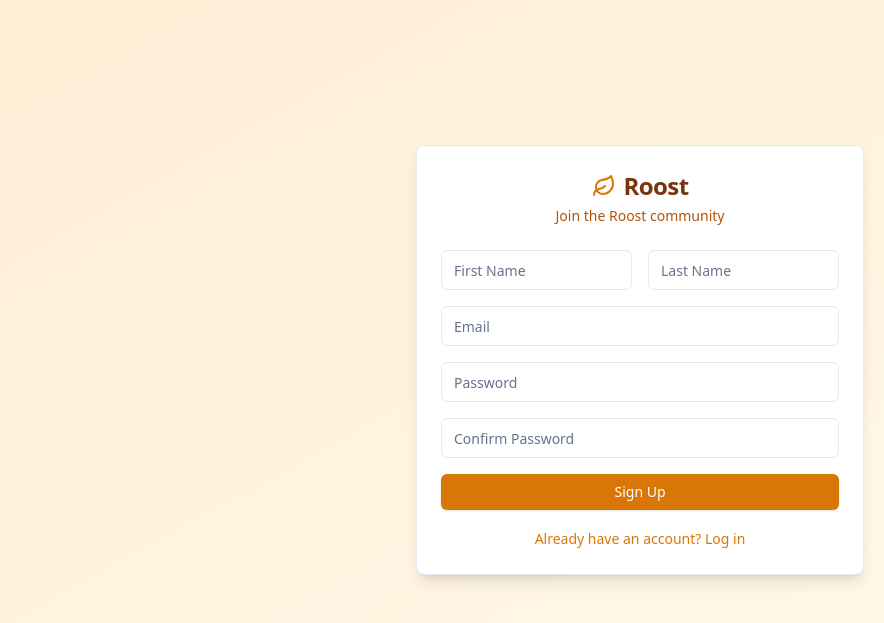
Test case: SignupPage › Form Validation › should show validation error for empty first name submission
This screenshot has width=884, height=623.
Type "Doe" into the field with placeholder "Last Name" at {"x": 744, "y": 270}, box [648,250,839,290]
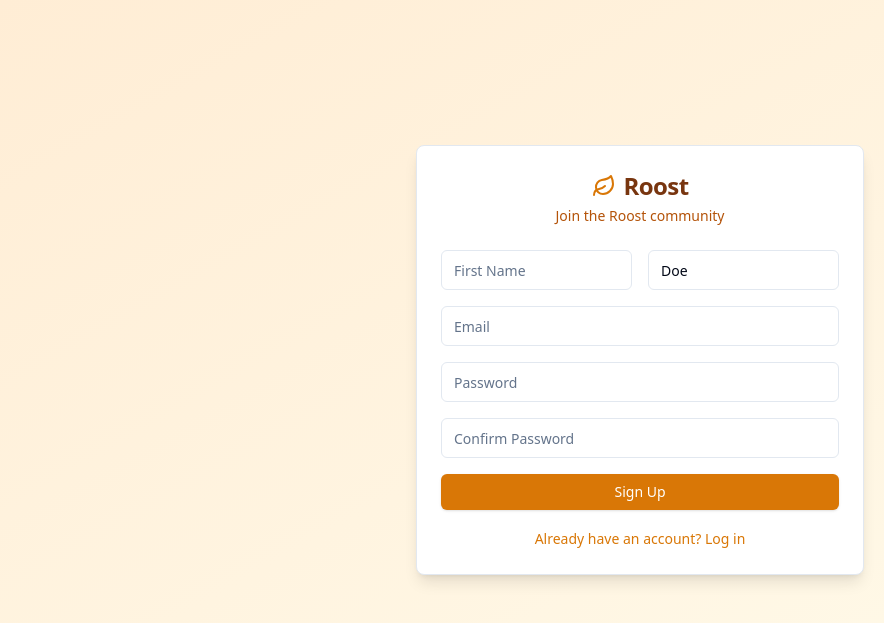
Type "john.doe@example.com" into the field with placeholder "Email" at {"x": 640, "y": 326}, box [441,306,839,346]
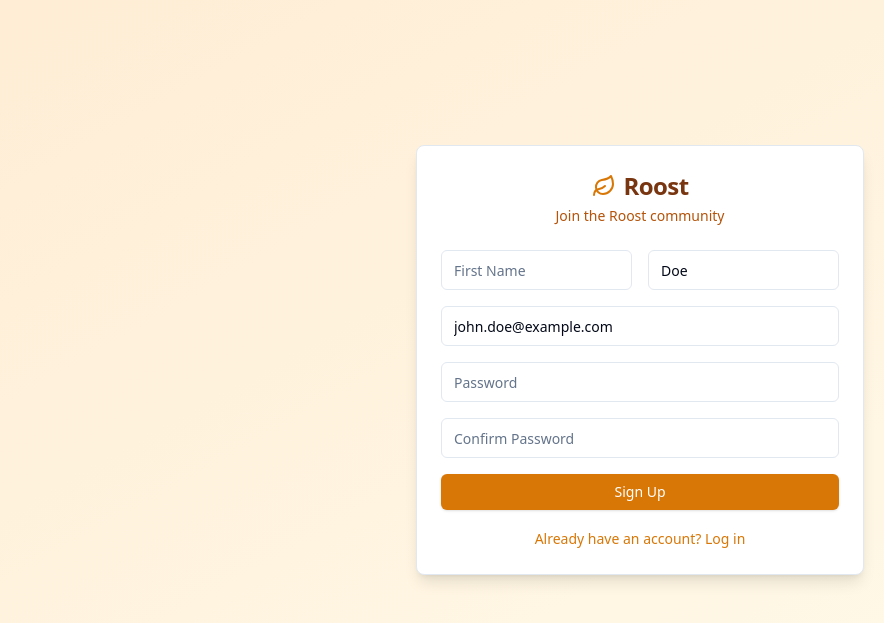
Type "password123" into the password field with placeholder "Password" at {"x": 640, "y": 382}, box [441,362,839,402]
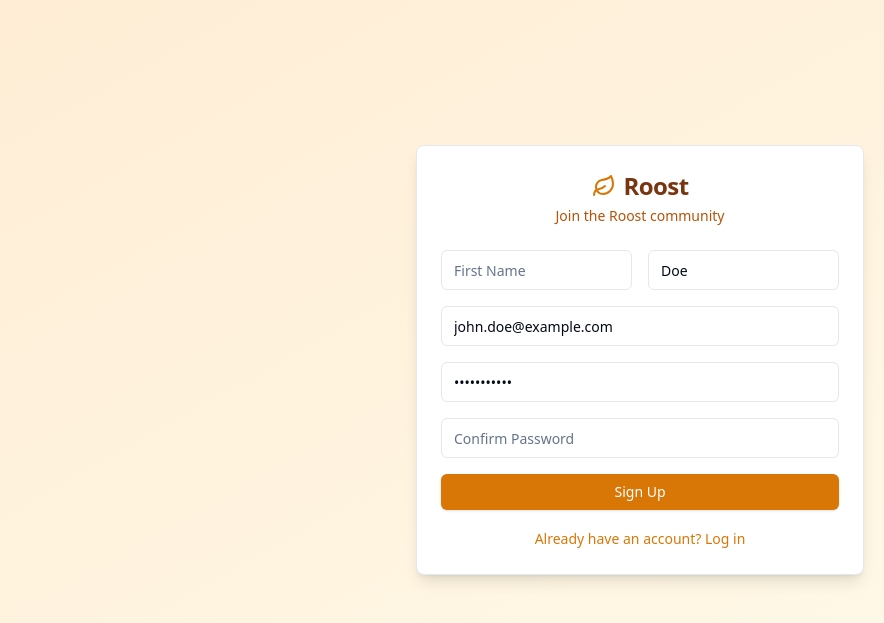
Type "password123" into the password field with placeholder "Confirm Password" at {"x": 640, "y": 438}, box [441,418,839,458]
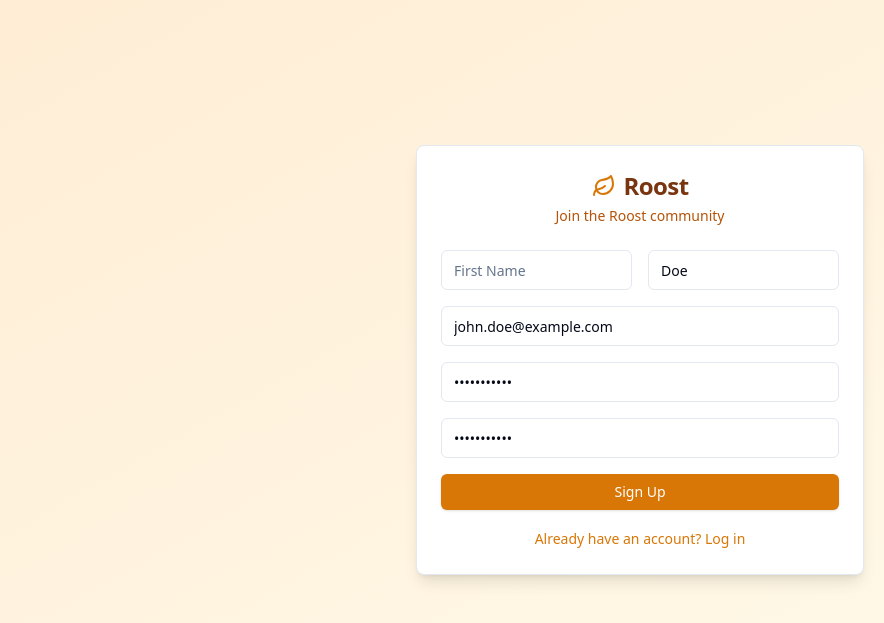
Click the button "Sign Up" at {"x": 640, "y": 492}, box [441,474,839,510]
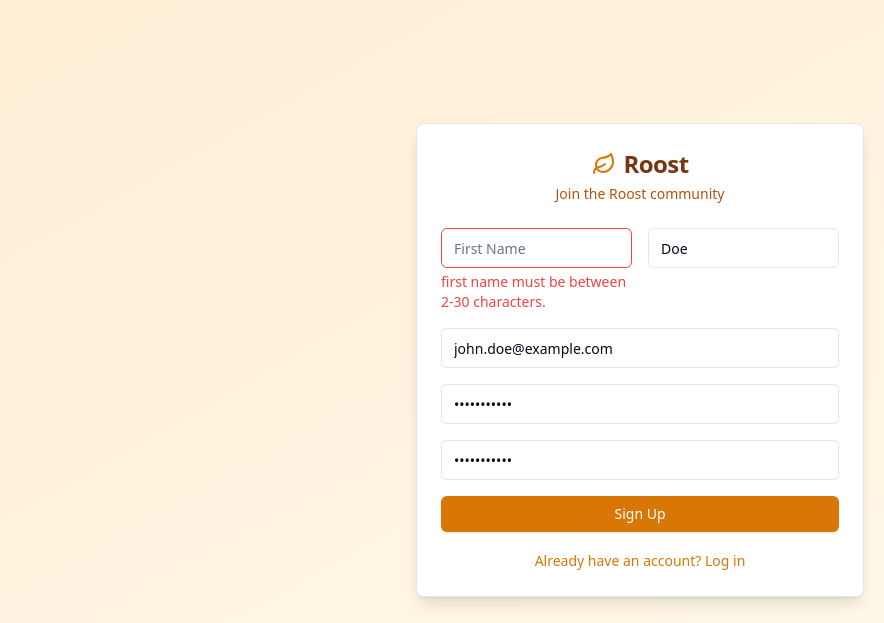
Result: the text "first name must be between 2-30 characters." is shown at [441,272,632,312]
